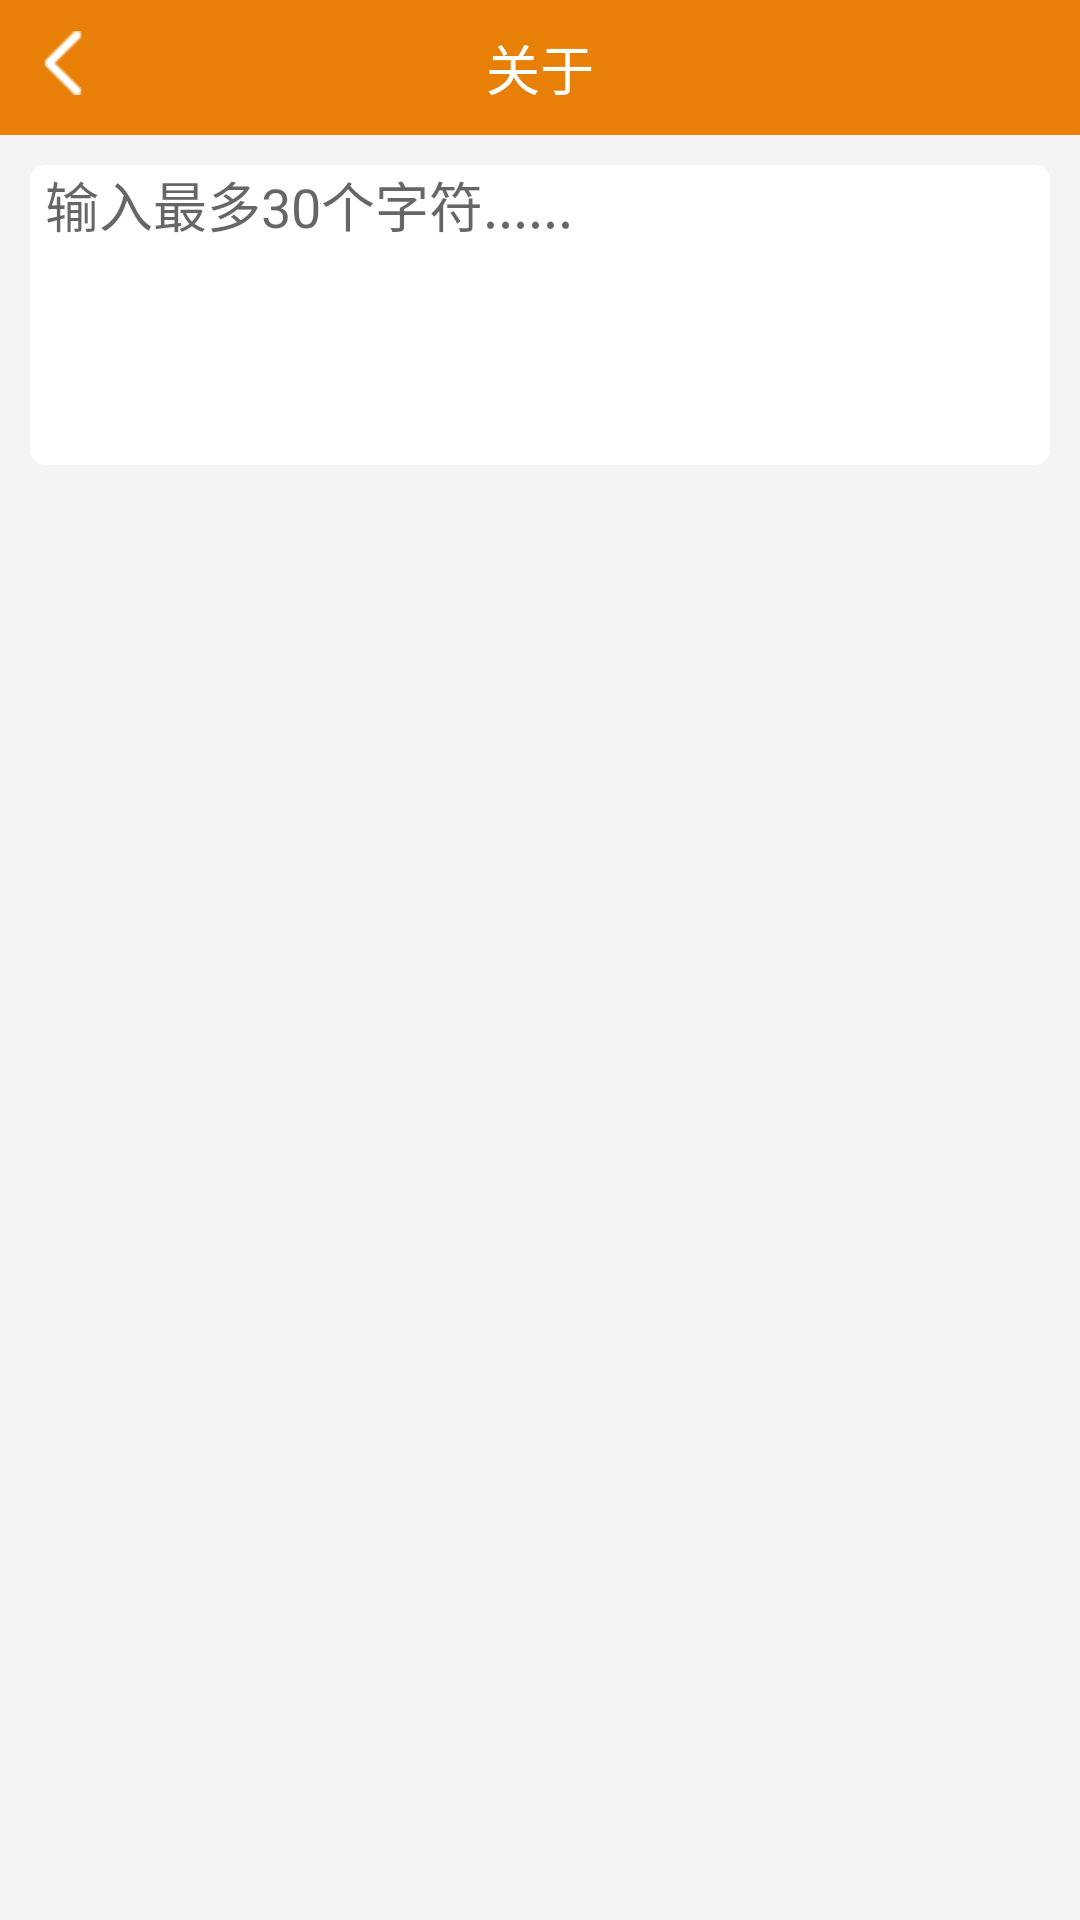

Icons on this 1080px×1920px Android screen, each with the point to tap as (x,y):
back: (63,63)
